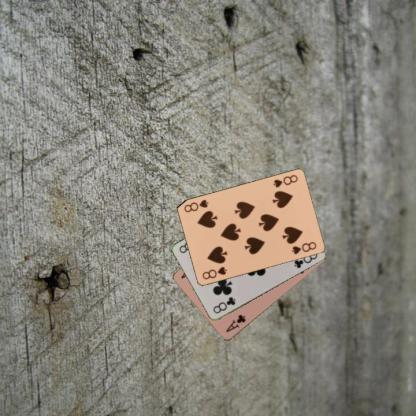8c: (210, 294, 237, 315)
8s: (199, 264, 228, 281), (270, 172, 299, 189)
Ac: (223, 312, 247, 334)
